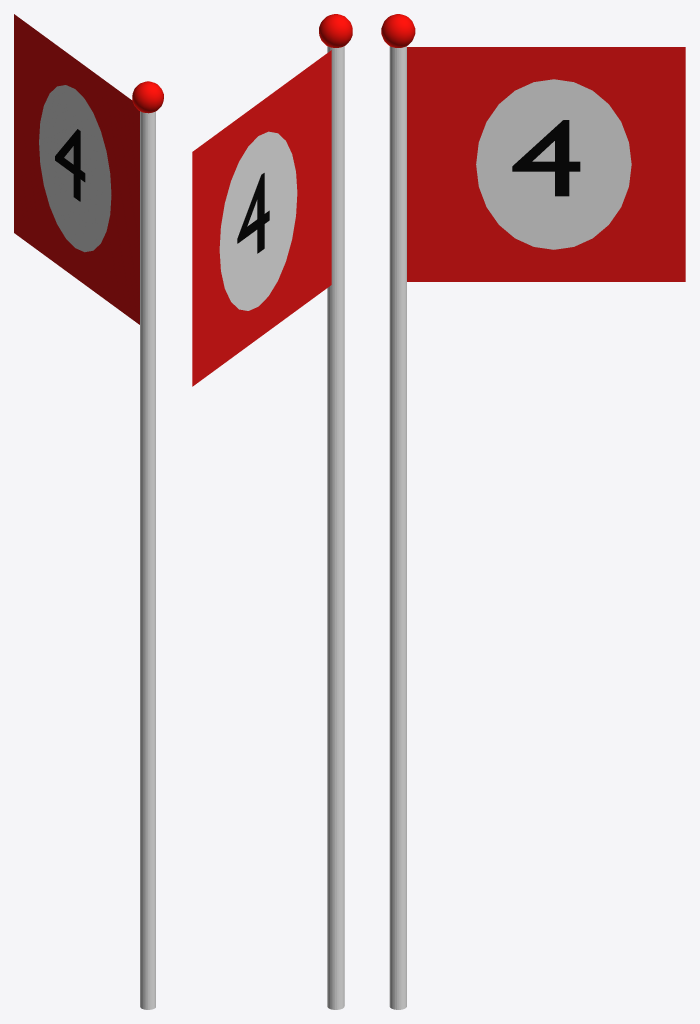
Rendered from Flag 4.fbx.
The picture shows the model from 3 angles, left to right: view 1: azimuth 30°, elevation 25°; view 2: azimuth 150°, elevation 25°; view 3: azimuth 270°, elevation 25°; orthographic projection. The views are drawn at different scales.
Parts seen in each view (by area): view 1: Plane.003, Cylinder.003, Circle.003, 1.006, Sphere.003; view 2: Plane.003, Cylinder.003, Circle.003, 1.006, Sphere.003; view 3: Plane.003, Circle.003, Cylinder.003, 1.007, Sphere.003.
Boxes of the visible parts, left/top/right/bottom form: Plane.003: left=14, top=14, right=139, bottom=324; Cylinder.003: left=140, top=111, right=155, bottom=1009; Circle.003: left=39, top=85, right=111, bottom=252; 1.006: left=55, top=129, right=85, bottom=201; Sphere.003: left=132, top=81, right=163, bottom=113; Plane.003: left=192, top=50, right=331, bottom=386; Cylinder.003: left=327, top=46, right=344, bottom=1009; Circle.003: left=219, top=131, right=297, bottom=310; 1.006: left=237, top=173, right=269, bottom=253; Sphere.003: left=319, top=14, right=352, bottom=47; Plane.003: left=407, top=47, right=685, bottom=281; Circle.003: left=476, top=79, right=631, bottom=249; Cylinder.003: left=389, top=46, right=406, bottom=1009; 1.007: left=512, top=120, right=580, bottom=196; Sphere.003: left=381, top=14, right=415, bottom=47.
Size of the model in its own units: 3.94 by 127 by 35.22.
